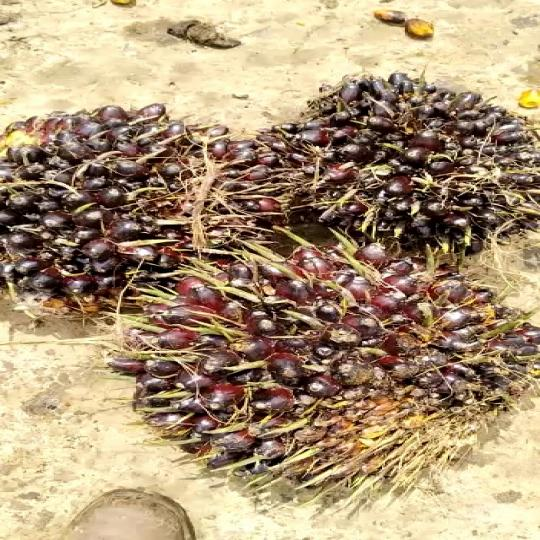mentah: (101, 235, 516, 512), (0, 92, 287, 318), (222, 71, 540, 262)
